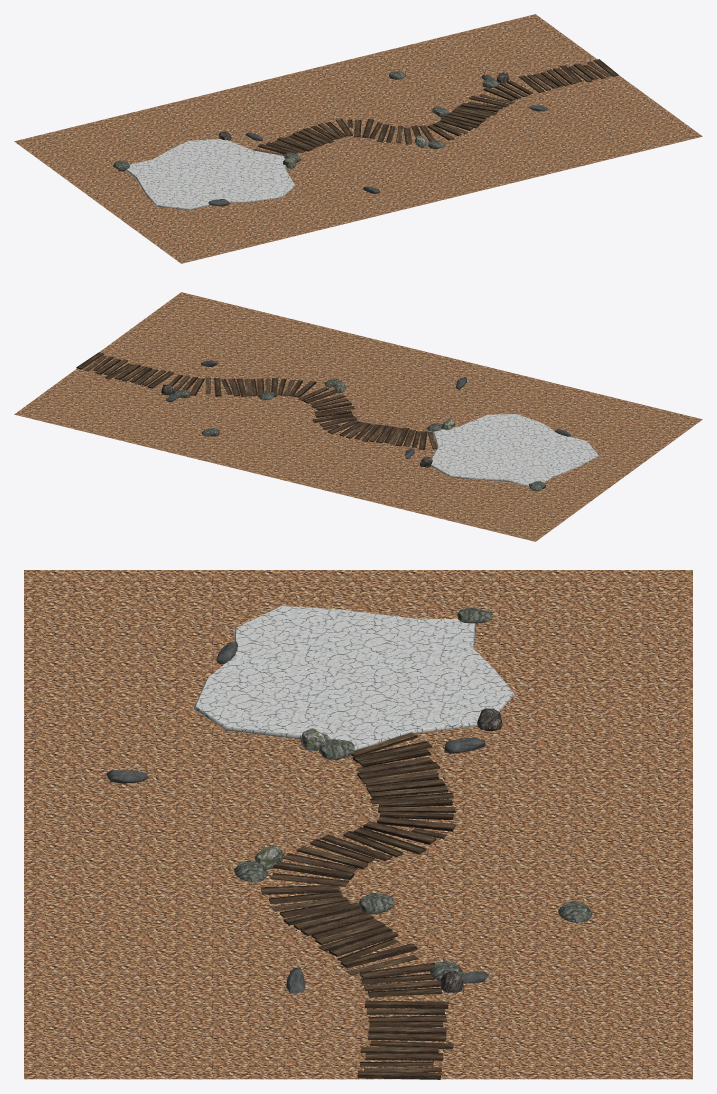
The model's file is pad_omgeving01.fbx.
3 views of the same model, one above another, from view 1: azimuth 30°, elevation 25°; view 2: azimuth 150°, elevation 25°; view 3: azimuth 270°, elevation 25° (orthographic). The views are drawn at different scales.
Visible parts, largest first — view 1: ground, platform; view 2: ground, platform; view 3: ground, platform.
Part boxes in pixels (x1,y1,x2,y2): ground: (14, 14, 702, 263); platform: (125, 139, 295, 209); ground: (14, 292, 702, 541); platform: (430, 414, 598, 486); ground: (24, 570, 692, 1079); platform: (193, 606, 514, 750).
Bounding box in the file's own units: 9.01 × 0.2075 × 5.
7 materials, 7 textured.
